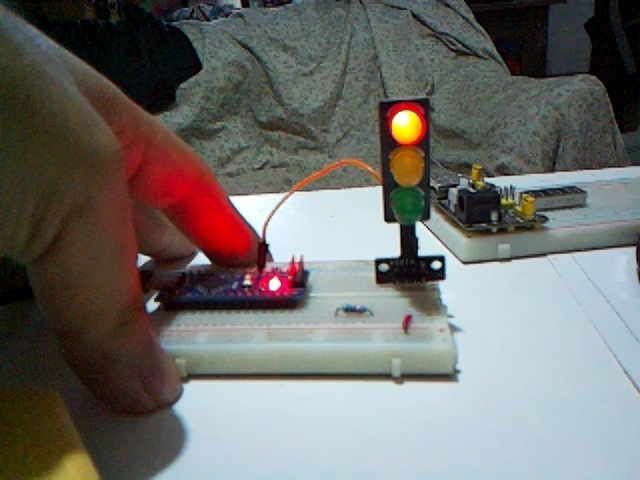traffic_light_red: (379, 97, 432, 224)
